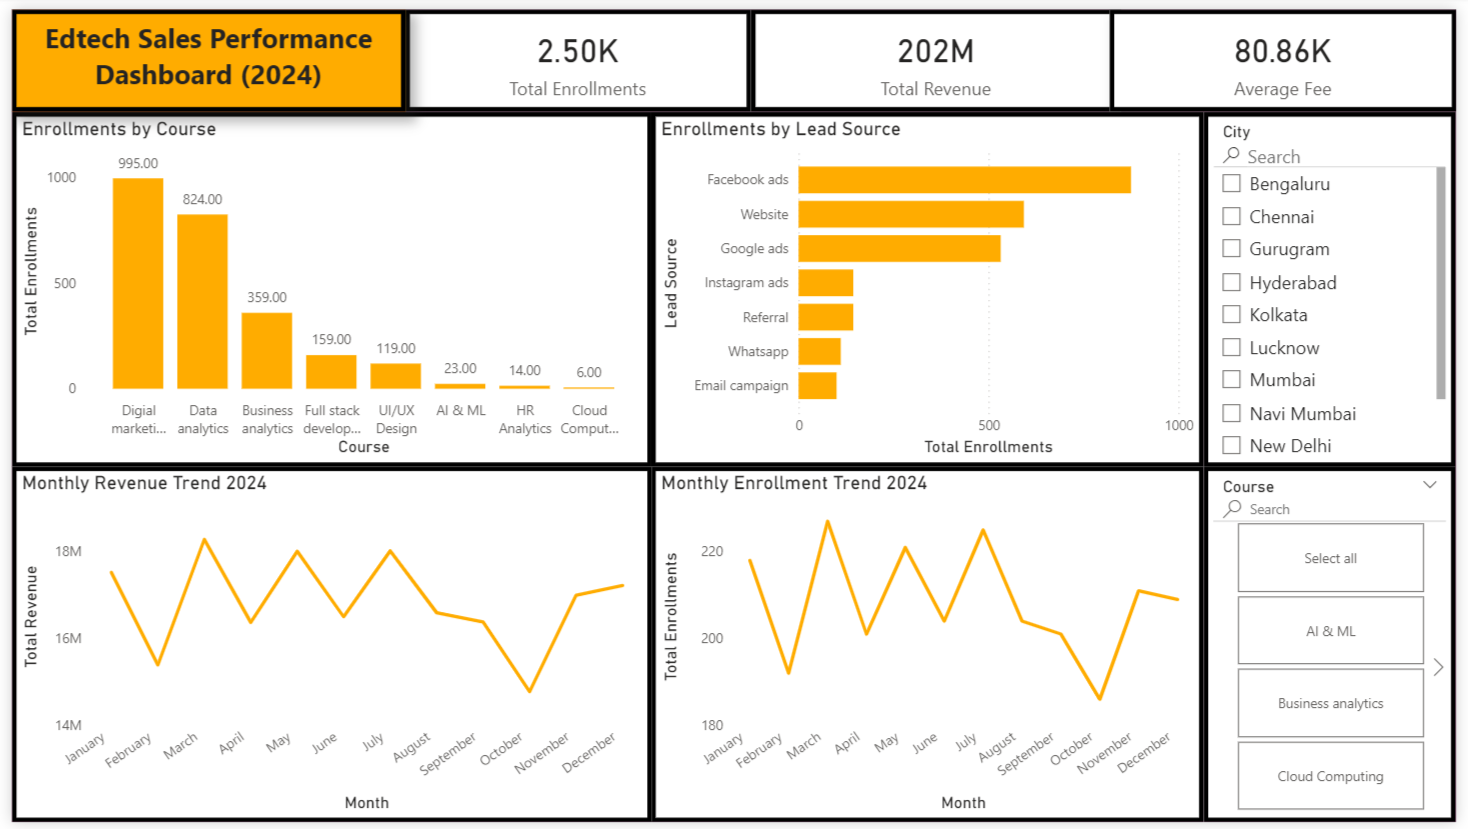

The page's visual inventory and layout, read from the dashboard file:
{"tool":"powerbi","page":{"name":"Edtech Sales Performance Dashboard 2024","canvas":[1280,720],"ordinal":0},"visuals":[{"type":"actionButton","box":[0,0,100,40],"z":0},{"type":"card","fields":{"Values":["Edtech Sales Data.Total Enrollments"]},"box":[348.5,0,306,90.6],"z":1000},{"type":"card","fields":{"Values":["Edtech Sales Data.Total Revenue"]},"box":[654.5,0,328,90.6],"z":2000},{"type":"card","fields":{"Values":["Edtech Sales Data.Average Fee"]},"box":[972.9,0,307.4,90.6],"z":3000},{"type":"clusteredColumnChart","title":"Enrollments by Course ","fields":{"Category":["Edtech Sales Data.Course "],"Y":["Edtech Sales Data.Total Enrollments"]},"box":[0,90.8,566.9,314.1],"z":4000},{"type":"barChart","title":"Enrollments by Lead Source","fields":{"Category":["Edtech Sales Data.Lead Source"],"Y":["Edtech Sales Data.Total Enrollments"]},"box":[566.9,90.8,489.6,314.1],"z":5000},{"type":"slicer","fields":{"Values":["Edtech Sales Data.Course "]},"box":[1056.4,404.9,223.3,315.3],"z":6000},{"type":"slicer","fields":{"Values":["Edtech Sales Data.City"]},"box":[1056.4,90.8,223.3,314.1],"z":7000},{"type":"lineChart","title":"Monthly Enrollment Trend 2024","fields":{"Category":["Edtech Sales Data.Enrollment date.Variation.Date Hierarchy.Year","Edtech Sales Data.Enrollment date.Variation.Date Hierarchy.Month"],"Y":["Edtech Sales Data.Total Enrollments"]},"box":[566.9,404.9,489.6,315.3],"z":8000},{"type":"textbox","box":[0,0,348.5,90.6],"z":9000},{"type":"lineChart","title":"Monthly Revenue Trend 2024","fields":{"Category":["Edtech Sales Data.Enrollment date.Variation.Date Hierarchy.Year","Edtech Sales Data.Enrollment date.Variation.Date Hierarchy.Month"],"Y":["Edtech Sales Data.Total Revenue"]},"box":[0,404.9,566.9,315.3],"z":10000}]}

Visuals, with their boxes in screenshot pixels (x1, y1, x2, y2), scaled from the page's 1280x720 canvas onto the 1468x829 screenshot:
actionButton: (0,0,115,46)
card - Edtech Sales Data.Total Enrollments: (400,0,751,104)
card - Edtech Sales Data.Total Revenue: (751,0,1127,104)
card - Edtech Sales Data.Average Fee: (1116,0,1467,104)
"Enrollments by Course " clusteredColumnChart: (0,105,650,466)
"Enrollments by Lead Source" barChart: (650,105,1212,466)
slicer - Edtech Sales Data.Course : (1212,466,1467,828)
slicer - Edtech Sales Data.City: (1212,105,1467,466)
"Monthly Enrollment Trend 2024" lineChart: (650,466,1212,828)
textbox: (0,0,400,104)
"Monthly Revenue Trend 2024" lineChart: (0,466,650,828)
